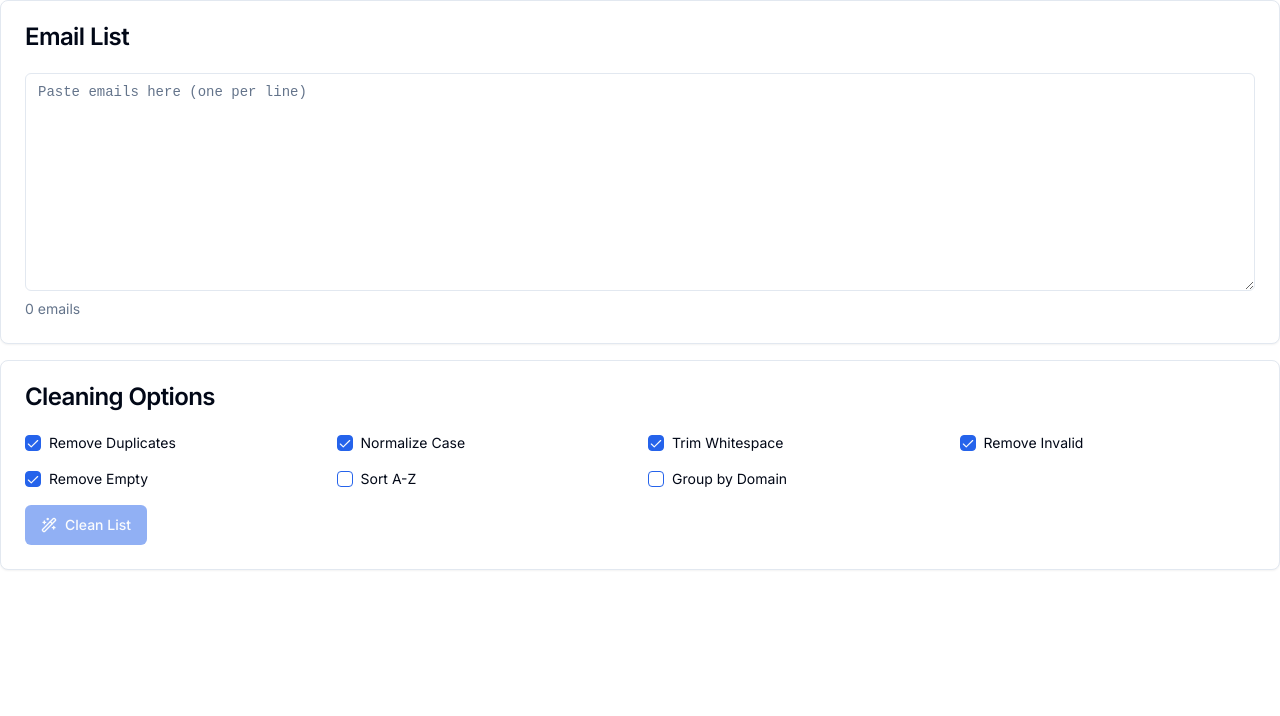
Test: ListCleaner › shows copy and download buttons after cleaning
Type "test@example.com" into the text box with placeholder "Paste emails here (one per line)".
click(640, 182); type("test@example.com")  # box [25, 73, 1255, 291]
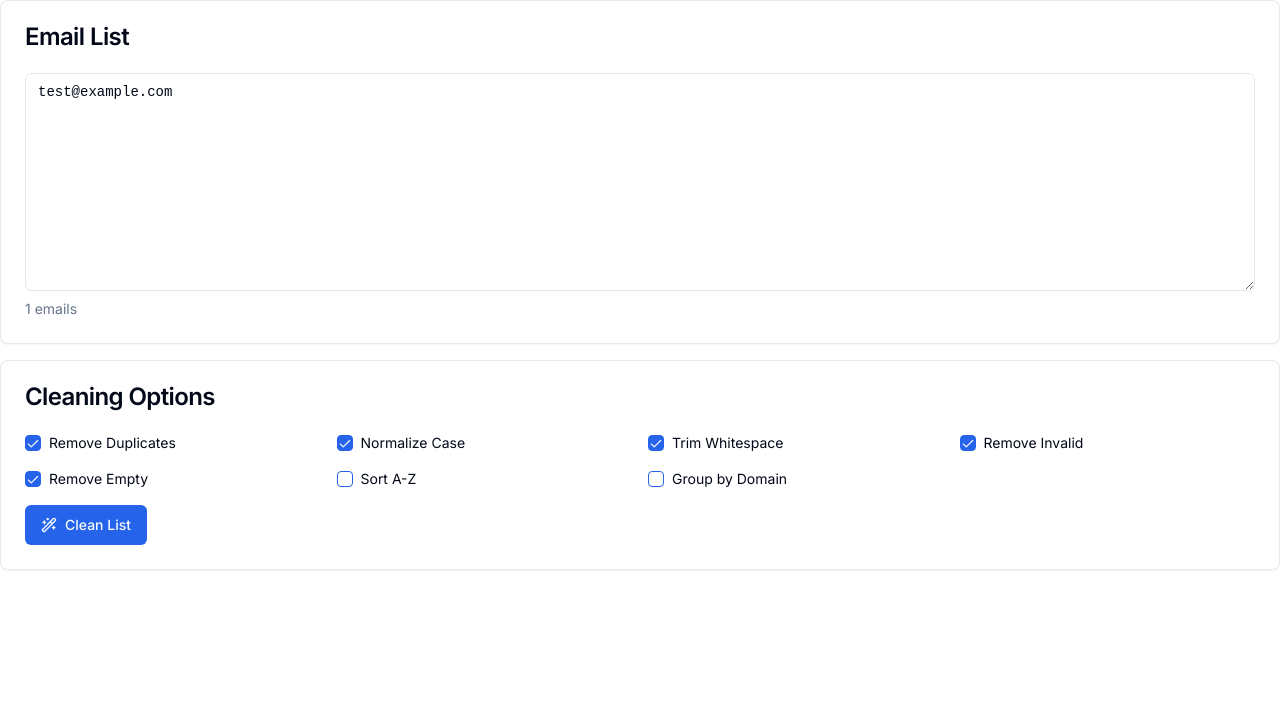
Click the button "Clean List".
click(86, 525)  # box [25, 505, 147, 545]
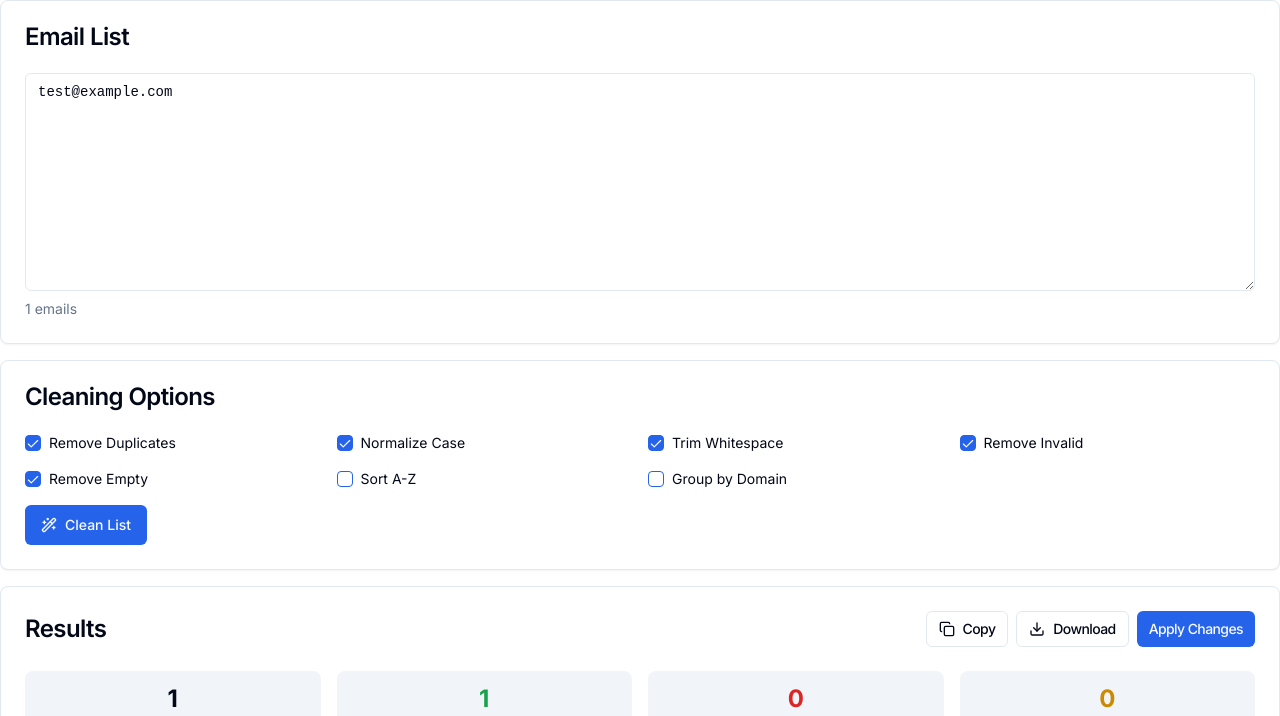
Now the button "Copy" is shown, box [926, 611, 1008, 647]
Now the button "Download" is shown, box [1016, 611, 1129, 647]
